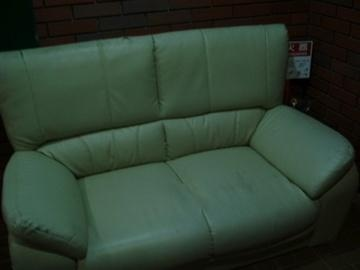sofa: (4, 22, 357, 270)
